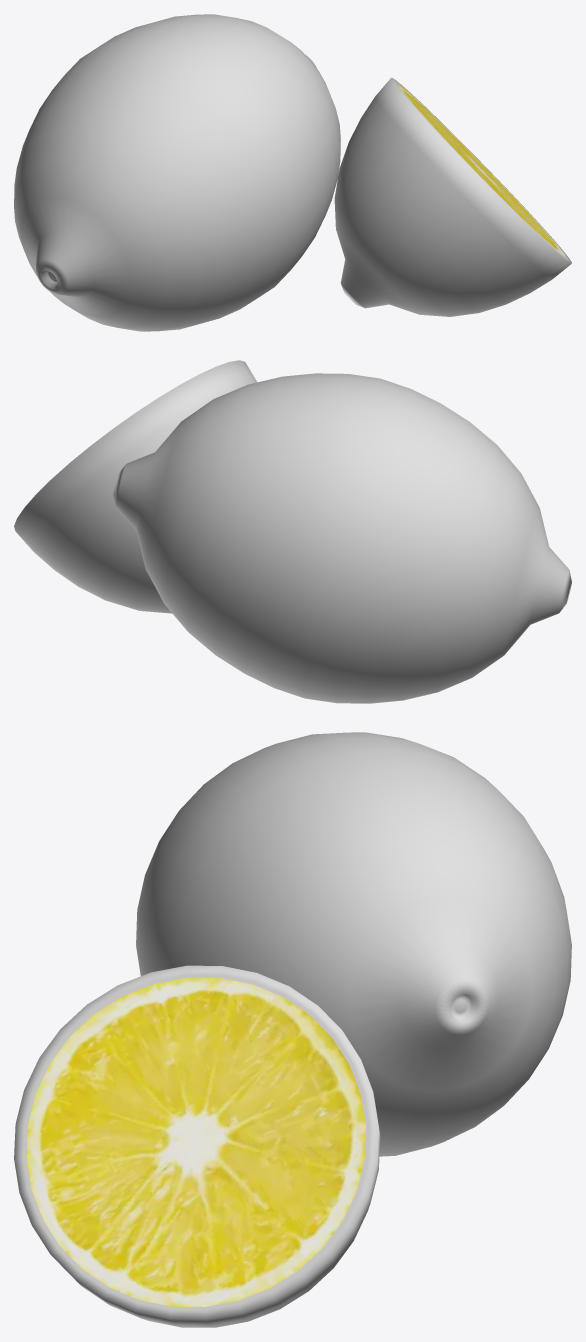
3 views of the same model, one above another, from view 1: azimuth 30°, elevation 25°; view 2: azimuth 150°, elevation 25°; view 3: azimuth 270°, elevation 25° (orthographic). The views are drawn at different scales.
Visible parts, largest first — view 1: 球体, 球体.001; view 2: 球体, 球体.001; view 3: 球体, 球体.001.
Boxes of the visible parts, x1,y1,x2,y2 form: 球体: (14, 14, 340, 331); 球体.001: (334, 77, 571, 316); 球体: (113, 373, 571, 703); 球体.001: (14, 360, 257, 613); 球体: (136, 732, 571, 1156); 球体.001: (14, 965, 380, 1327).
Bounding box in the file's own units: 3.8 × 2.09 × 2.62.
2 materials, 1 textured.
